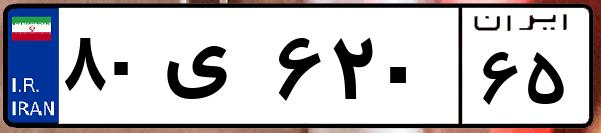0: (385, 28, 445, 110), (110, 28, 158, 98)
2: (330, 28, 385, 110)
5: (525, 38, 570, 115)
6: (270, 28, 330, 110), (475, 38, 525, 113)
8: (57, 26, 110, 100)
ی: (158, 20, 270, 120)
